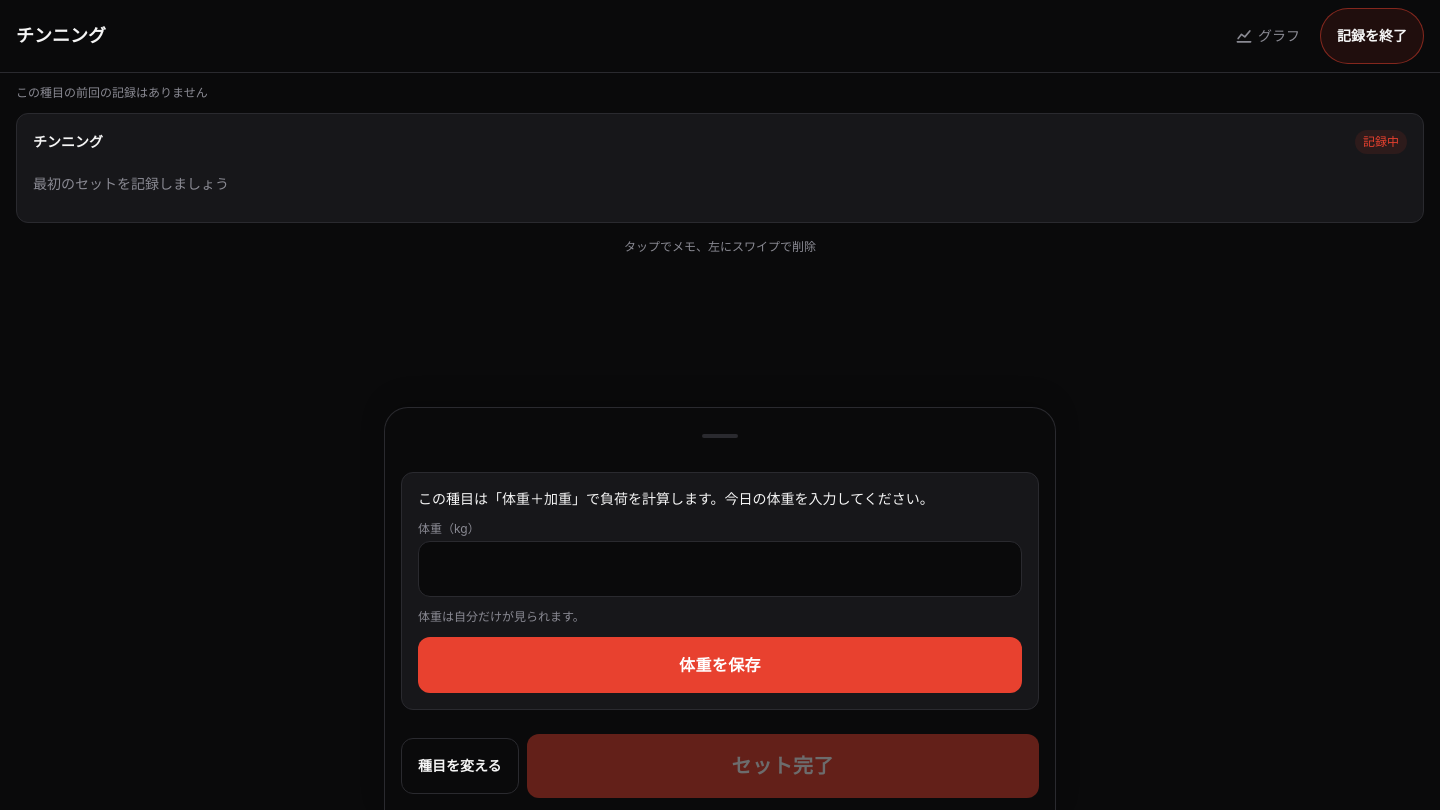
Scenario: LogPage › asks for bodyweight first, then records assisted chin-ups against the total load
Expected: the text "この種目は「体重＋加重」で負荷を計算します。今日の体重を入力してください。" is shown, [418,489,1022,509]
Expected: the button "セット完了" is disabled, [527,734,1039,798]
Type "70" into the number field labelled "体重（kg）". click: coordinates (720, 569)
box: [418,541,1022,597]
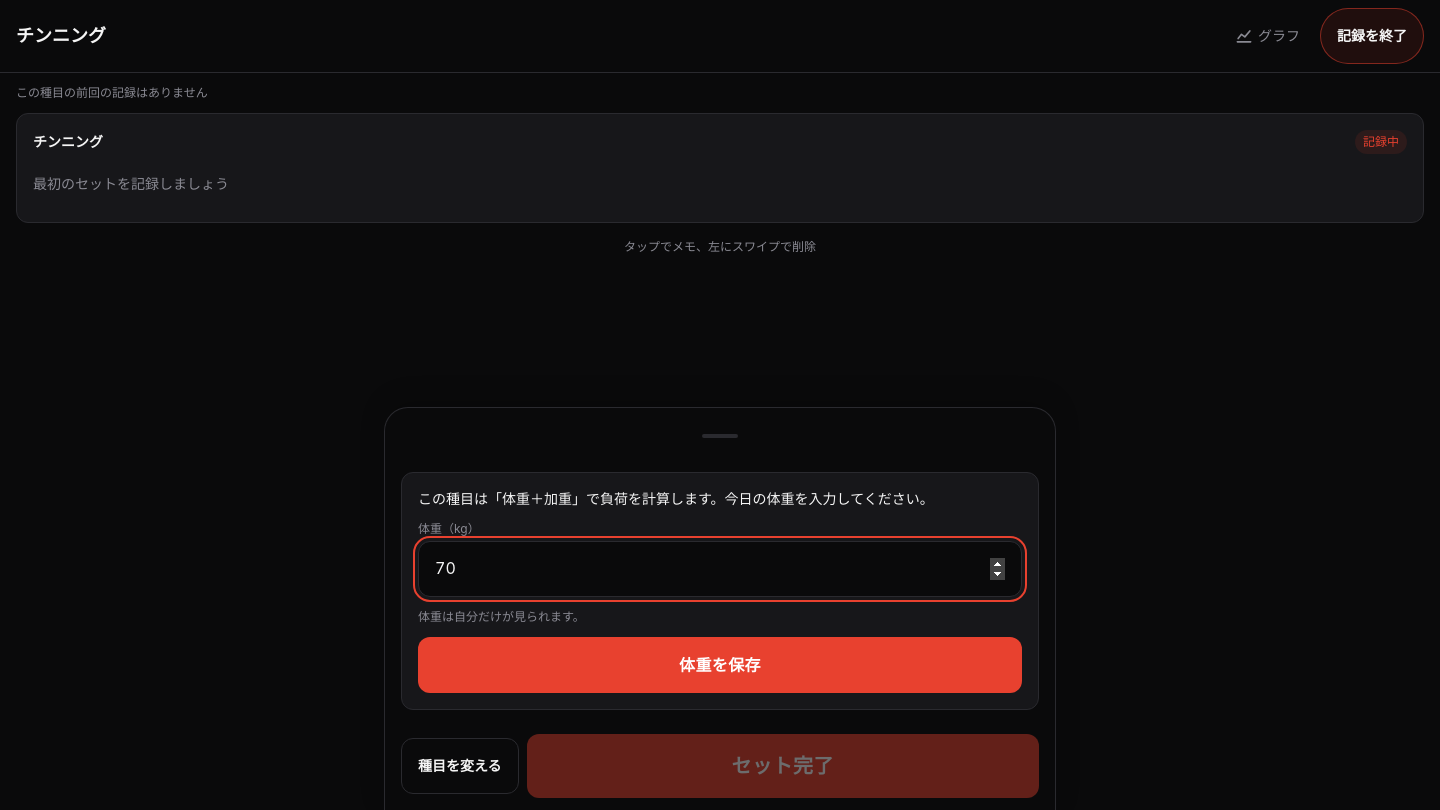
Click the button "体重を保存". click: coordinates (720, 665)
box: [418,637,1022,693]
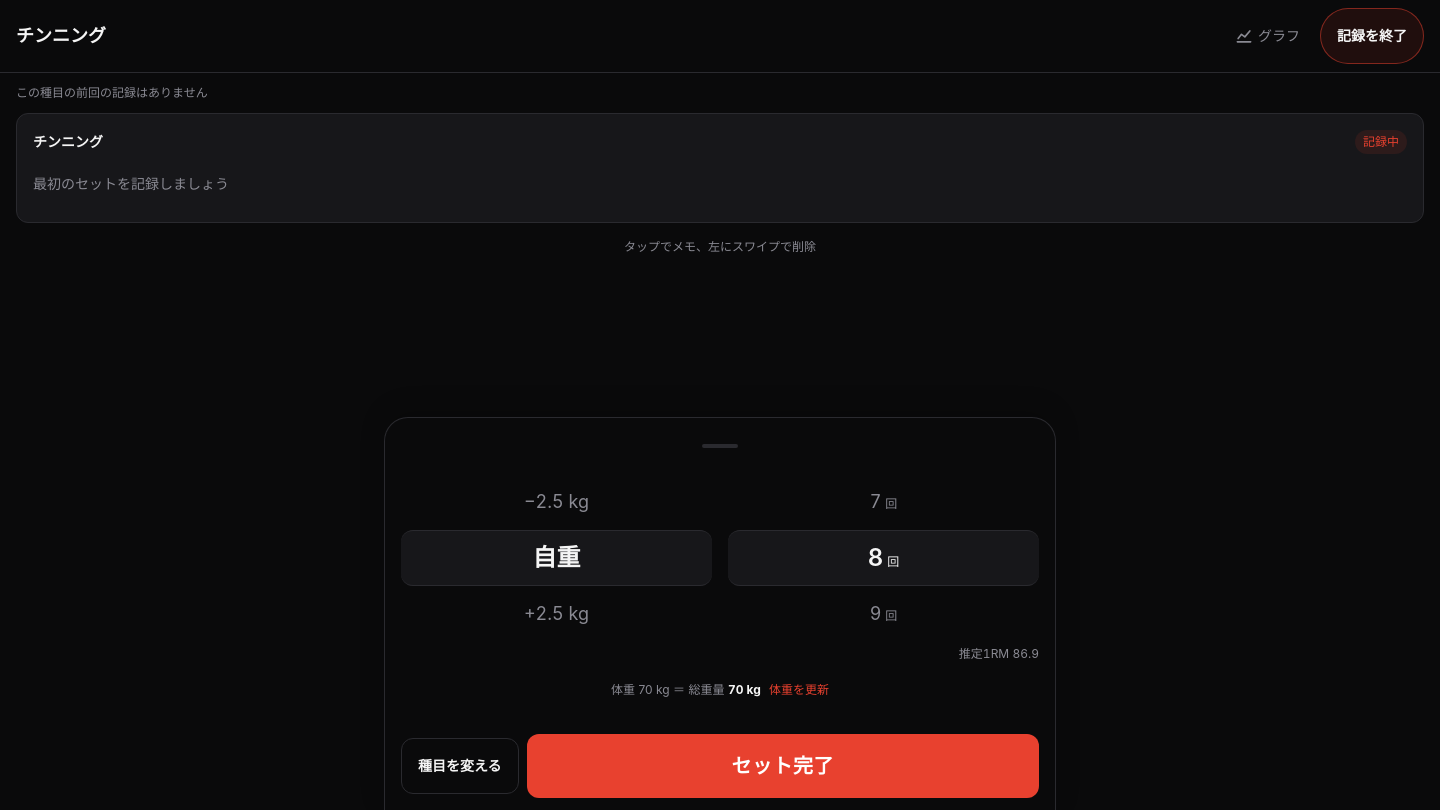
Now the text "体重 70 kg ＝ 総重量 70 kg 体重を更新" is shown, box [611,662,829,718]
Click the button with aria-label "加重を直接入力". click: coordinates (556, 558)
box: [401,530,712,586]
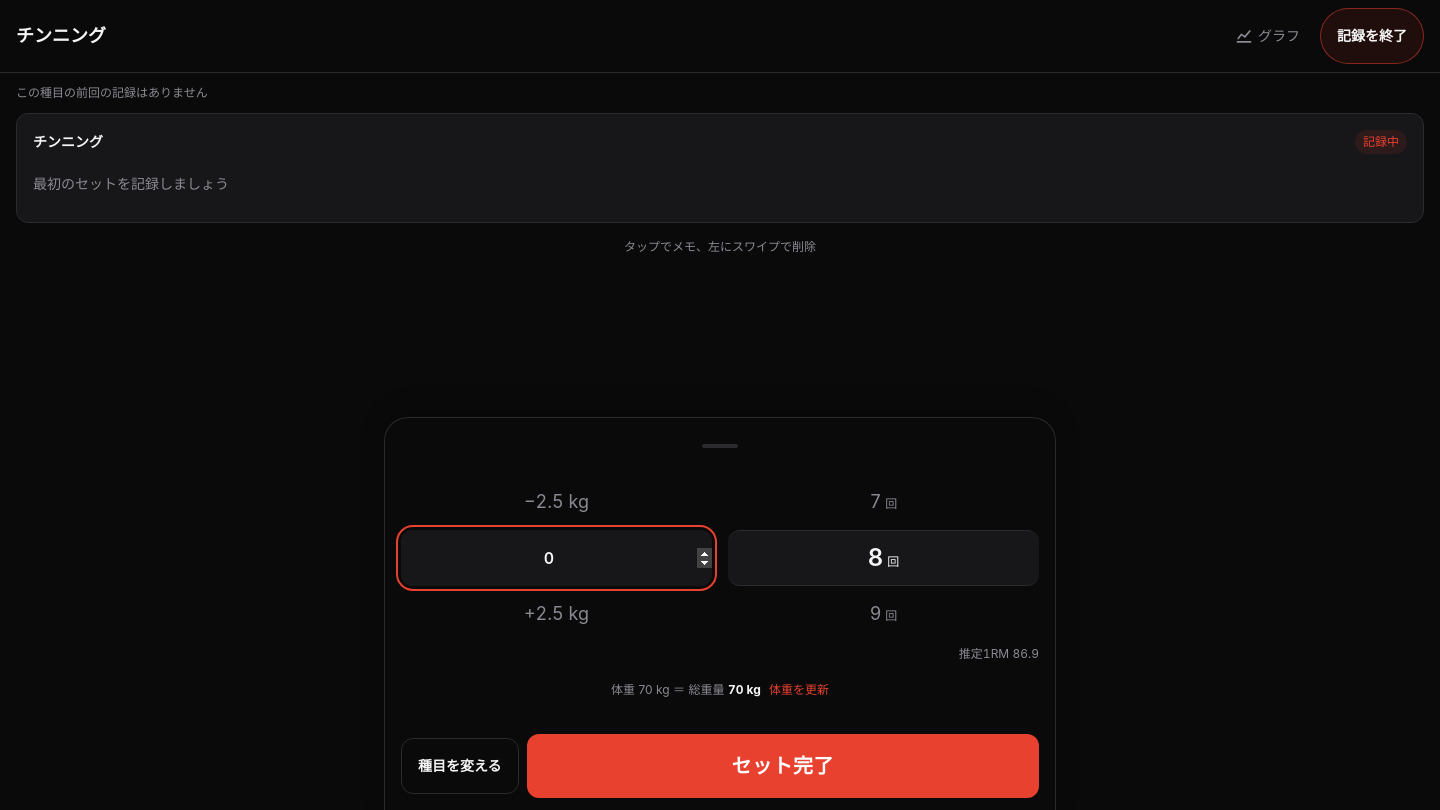
Replace the text in the number field named "加重" with "-20". click: coordinates (556, 558)
box: [401,530,712,586]
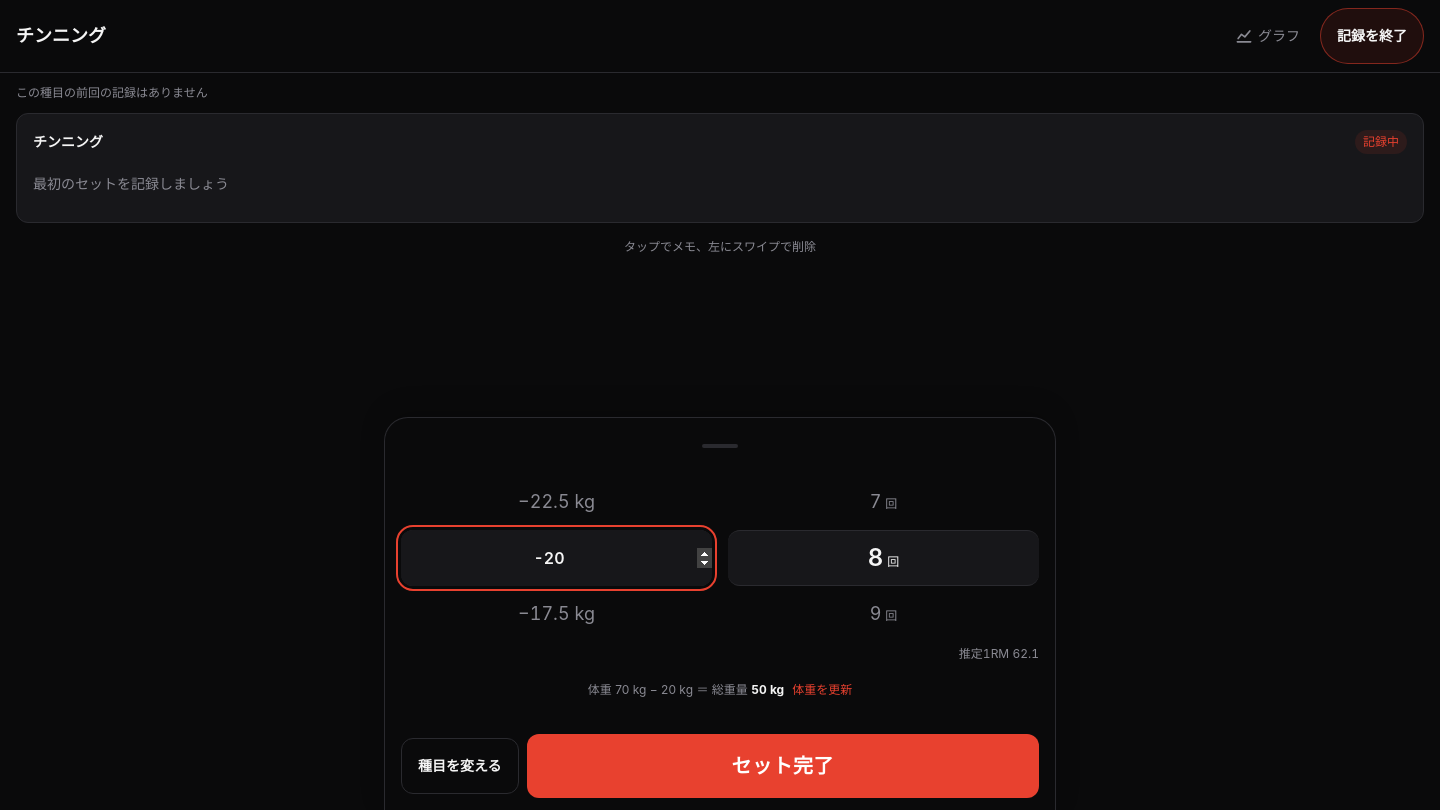
Now the text "体重 70 kg − 20 kg ＝ 総重量 50 kg 体重を更新" is shown, box [588,662,852,718]
Click the button "セット完了". click: coordinates (783, 766)
box: [527,734,1039,798]
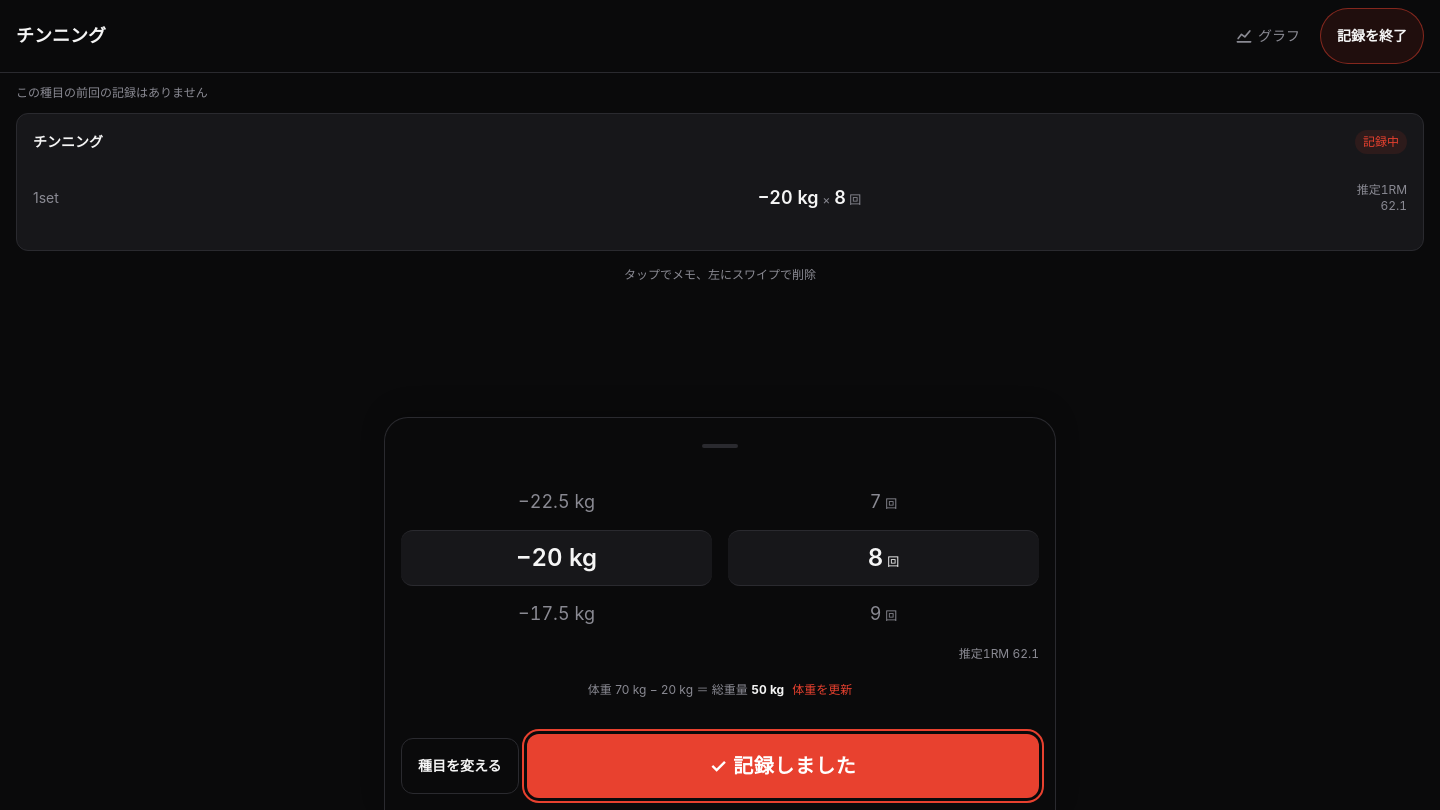
Now the list item shows "−20 kg", box [33,170,1407,226]
